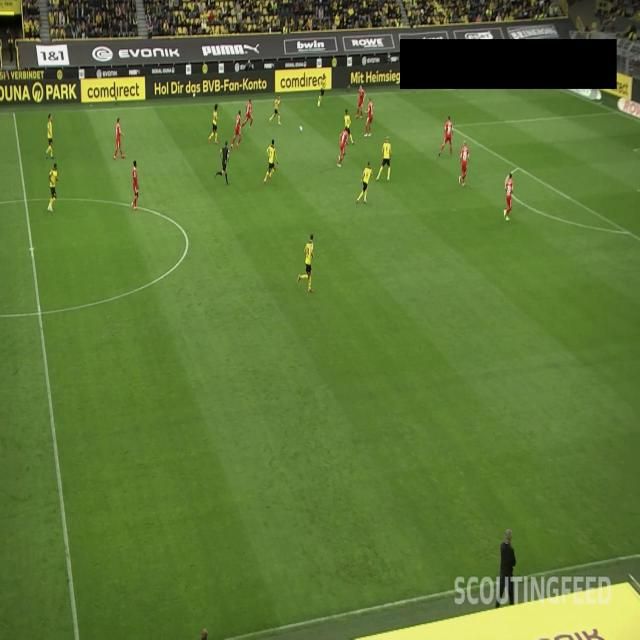player: (296, 233, 315, 293), (356, 160, 374, 204), (376, 135, 392, 181), (438, 114, 454, 158), (264, 138, 278, 186), (47, 162, 59, 212), (458, 140, 469, 186), (337, 125, 349, 167), (114, 118, 126, 160), (230, 110, 242, 150), (503, 172, 513, 220), (208, 104, 219, 144), (269, 94, 282, 126), (240, 98, 253, 130), (45, 114, 54, 160), (344, 108, 354, 146), (355, 84, 365, 120), (364, 97, 373, 137), (132, 160, 138, 210), (317, 74, 326, 106)
referee: (214, 140, 230, 186)
